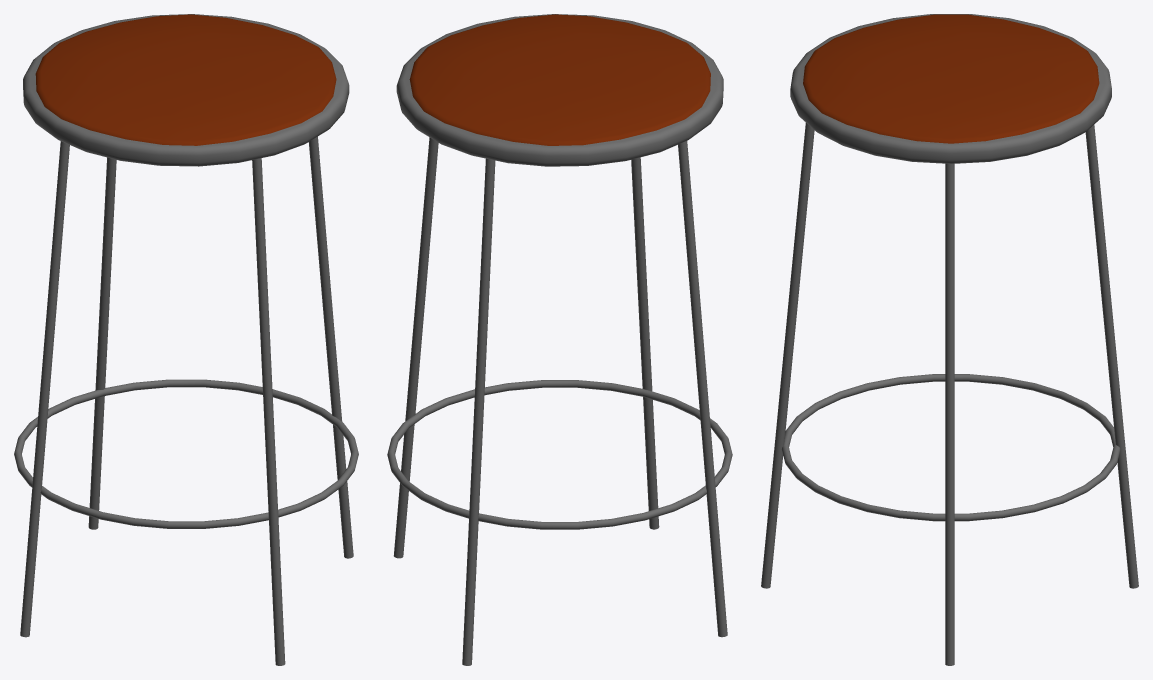
File: chair.FBX
3 renders of one model, left to right at view 1: azimuth 30°, elevation 25°; view 2: azimuth 150°, elevation 25°; view 3: azimuth 270°, elevation 25°, orthographic.
Visible parts, largest first — view 1: ChamferCyl002; view 2: ChamferCyl002; view 3: ChamferCyl002.
Part boxes in pixels (<box>): ChamferCyl002: <box>14,14,358,665</box>; ChamferCyl002: <box>387,14,732,665</box>; ChamferCyl002: <box>761,14,1138,665</box>.
Size of the model in its own units: 63.66 by 96.14 by 63.66.
